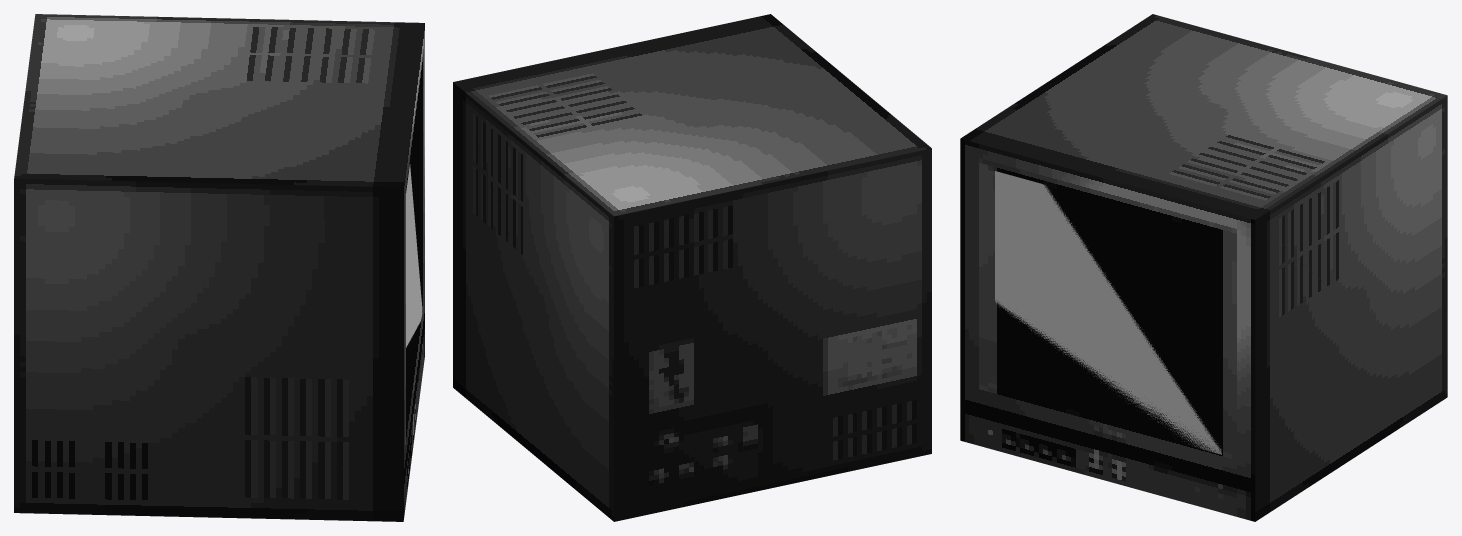
The model's file is primary_049.glb.
3 views of the same model, side by side, from view 1: azimuth 30°, elevation 25°; view 2: azimuth 150°, elevation 25°; view 3: azimuth 270°, elevation 25° (orthographic). The views are drawn at different scales.
Parts seen in each view (by area): view 1: Object; view 2: Object; view 3: Object.
Part boxes in pixels (box(x1,y1,x2,y2)): Object: box(14, 14, 424, 521); Object: box(453, 14, 931, 521); Object: box(960, 14, 1447, 521).
Size of the model in its own units: 0.7658 by 0.5235 by 0.7658.
7 materials, 7 textured.
